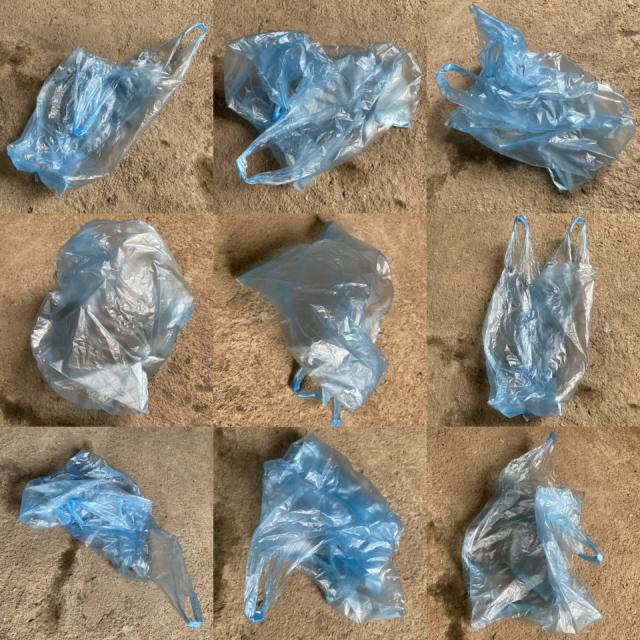plastik: (436, 5, 635, 192), (8, 24, 208, 195), (19, 450, 202, 627), (236, 220, 392, 426), (30, 220, 194, 415), (224, 31, 421, 190), (244, 434, 405, 623), (461, 432, 602, 634), (482, 216, 596, 419)
